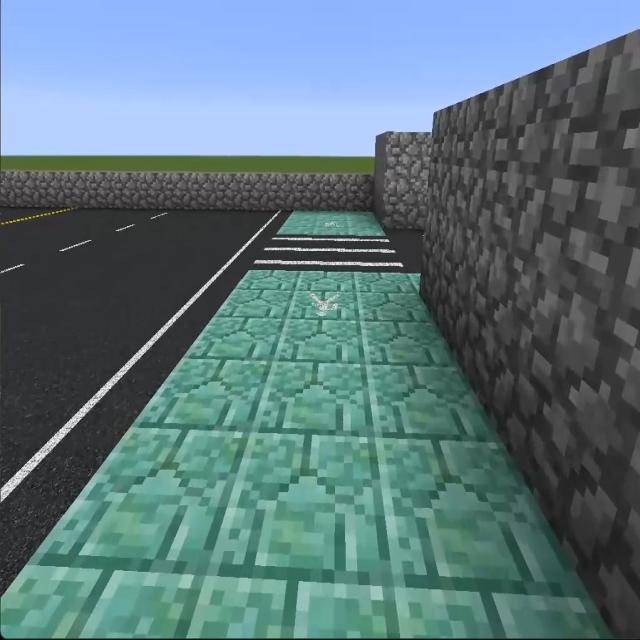crosswalk: (252, 237, 412, 271)
road: (4, 210, 286, 549), (396, 233, 419, 268)
sidewalk: (0, 267, 610, 639), (274, 211, 384, 239)
